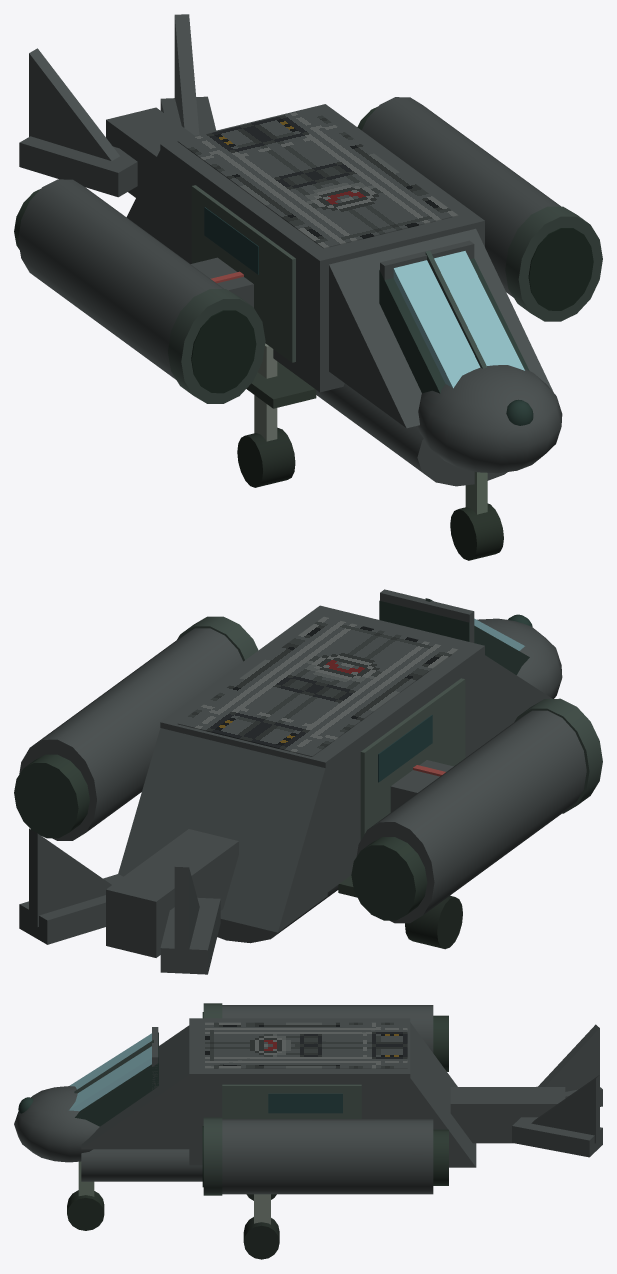
File: CMU3DReduxVehicleBlackfootDoorGunVariant.glb
3 renders of one model, top to bottom at view 1: azimuth 30°, elevation 25°; view 2: azimuth 150°, elevation 25°; view 3: azimuth 270°, elevation 25°, orthographic. The views are drawn at different scales.
Parts seen in each view (by area): view 1: horizontal engine nacelle (×2), cabin dorsal panels, main cabin, sloping foredeck, nose lower fairing, engine intake rim (×2), armored windshield, recessed intake (×2), tail stabilizer fin (×2), side cargo door, tail fork spar (×2), sealed lower fuselage (+12 smaller); view 2: horizontal engine nacelle (×2), tail shoulder, cabin dorsal panels, main cabin, exhaust collar (×2), tail boom, tail stabilizer fin (×2), side cargo door, tail fork spar (×2), engine intake rim (×2), cockpit frame, sloping foredeck (+6 smaller); view 3: horizontal engine nacelle (×2), cabin dorsal panels, main cabin, sloping foredeck, tail boom, tail stabilizer fin (×2), nose lower fairing, tail shoulder, sealed lower fuselage, side cargo door, armored windshield, tail fork spar (+8 smaller).
Boxes of the visible parts, box(x1,y1,x2,y2) form: horizontal engine nacelle (×2): box(18, 97, 560, 379); cabin dorsal panels: box(177, 108, 458, 248); main cabin: box(160, 104, 484, 392); sloping foredeck: box(329, 228, 553, 428); nose lower fairing: box(417, 365, 562, 473); engine intake rim (×2): box(168, 206, 602, 403); armored windshield: box(393, 251, 524, 388); recessed intake (×2): box(191, 228, 593, 393); tail stabilizer fin (×2): box(29, 14, 199, 160); side cargo door: box(191, 185, 295, 362); tail fork spar (×2): box(19, 96, 216, 197); sealed lower fuselage: box(316, 383, 507, 486); horizontal engine nacelle (×2): box(19, 628, 586, 923); tail shoulder: box(118, 728, 327, 932); cabin dorsal panels: box(178, 616, 458, 756); main cabin: box(160, 605, 484, 892); exhaust collar (×2): box(14, 754, 427, 920); tail boom: box(106, 829, 238, 957); tail stabilizer fin (×2): box(29, 828, 199, 961); side cargo door: box(360, 678, 465, 840); tail fork spar (×2): box(19, 874, 220, 974); engine intake rim (×2): box(177, 616, 602, 813); cockpit frame: box(379, 600, 529, 675); sloping foredeck: box(485, 655, 552, 743); horizontal engine nacelle (×2): box(222, 1005, 433, 1194); cabin dorsal panels: box(205, 1022, 407, 1068); main cabin: box(189, 1018, 410, 1165); sloping foredeck: box(81, 1025, 189, 1149); tail boom: box(450, 1087, 565, 1143); tail stabilizer fin (×2): box(531, 1024, 599, 1143); nose lower fairing: box(14, 1086, 99, 1162); tail shoulder: box(408, 1022, 476, 1167); sealed lower fuselage: box(81, 1149, 202, 1181); side cargo door: box(222, 1084, 361, 1118); armored windshield: box(69, 1033, 151, 1111); tail fork spar: box(512, 1117, 602, 1157).
Size of the model in its own units: 2.35 by 1.43 by 4.1.
17 materials, 1 textured.
